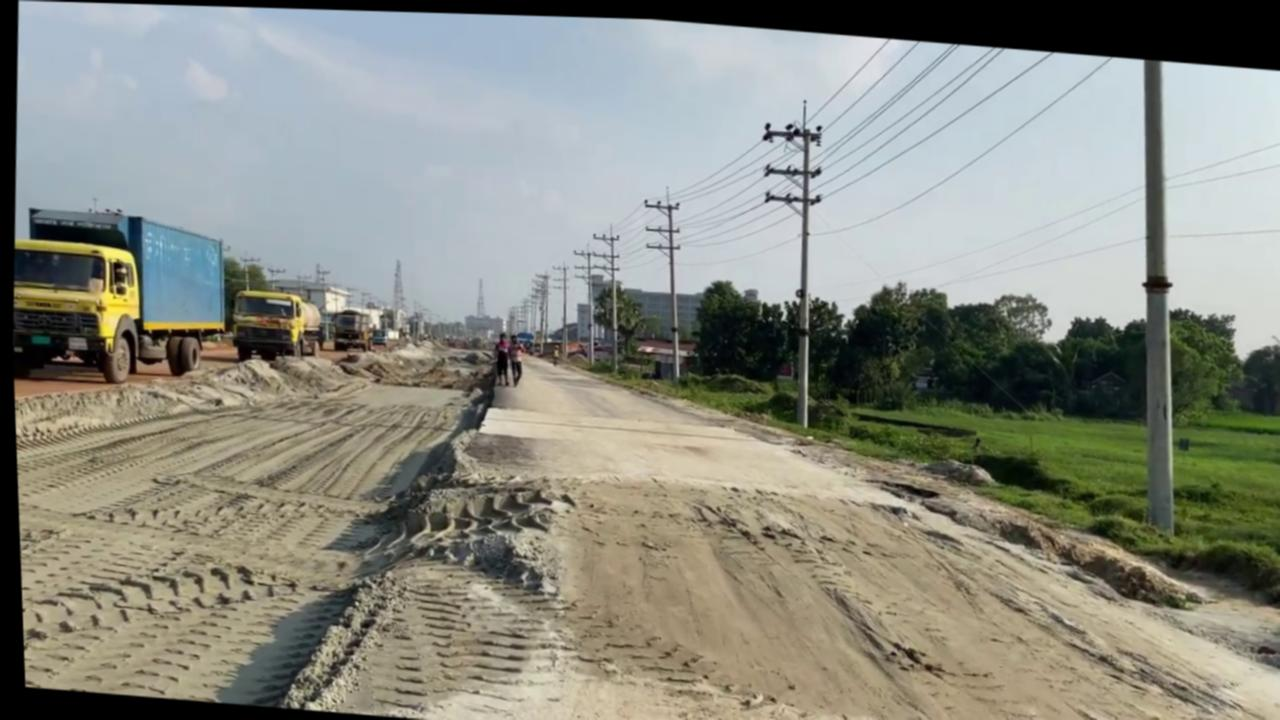Muddy road: (9, 304, 503, 720)
Pole: (1117, 52, 1195, 530), (780, 94, 823, 423)
Rickshaw: (480, 322, 1280, 720)
Traffic-sign: (586, 275, 646, 361)
Tree: (6, 199, 229, 391), (224, 285, 323, 366), (327, 305, 371, 351), (510, 327, 531, 349)
